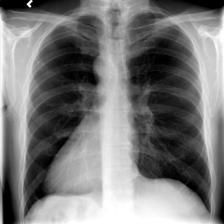normal: (20, 8, 216, 222)
